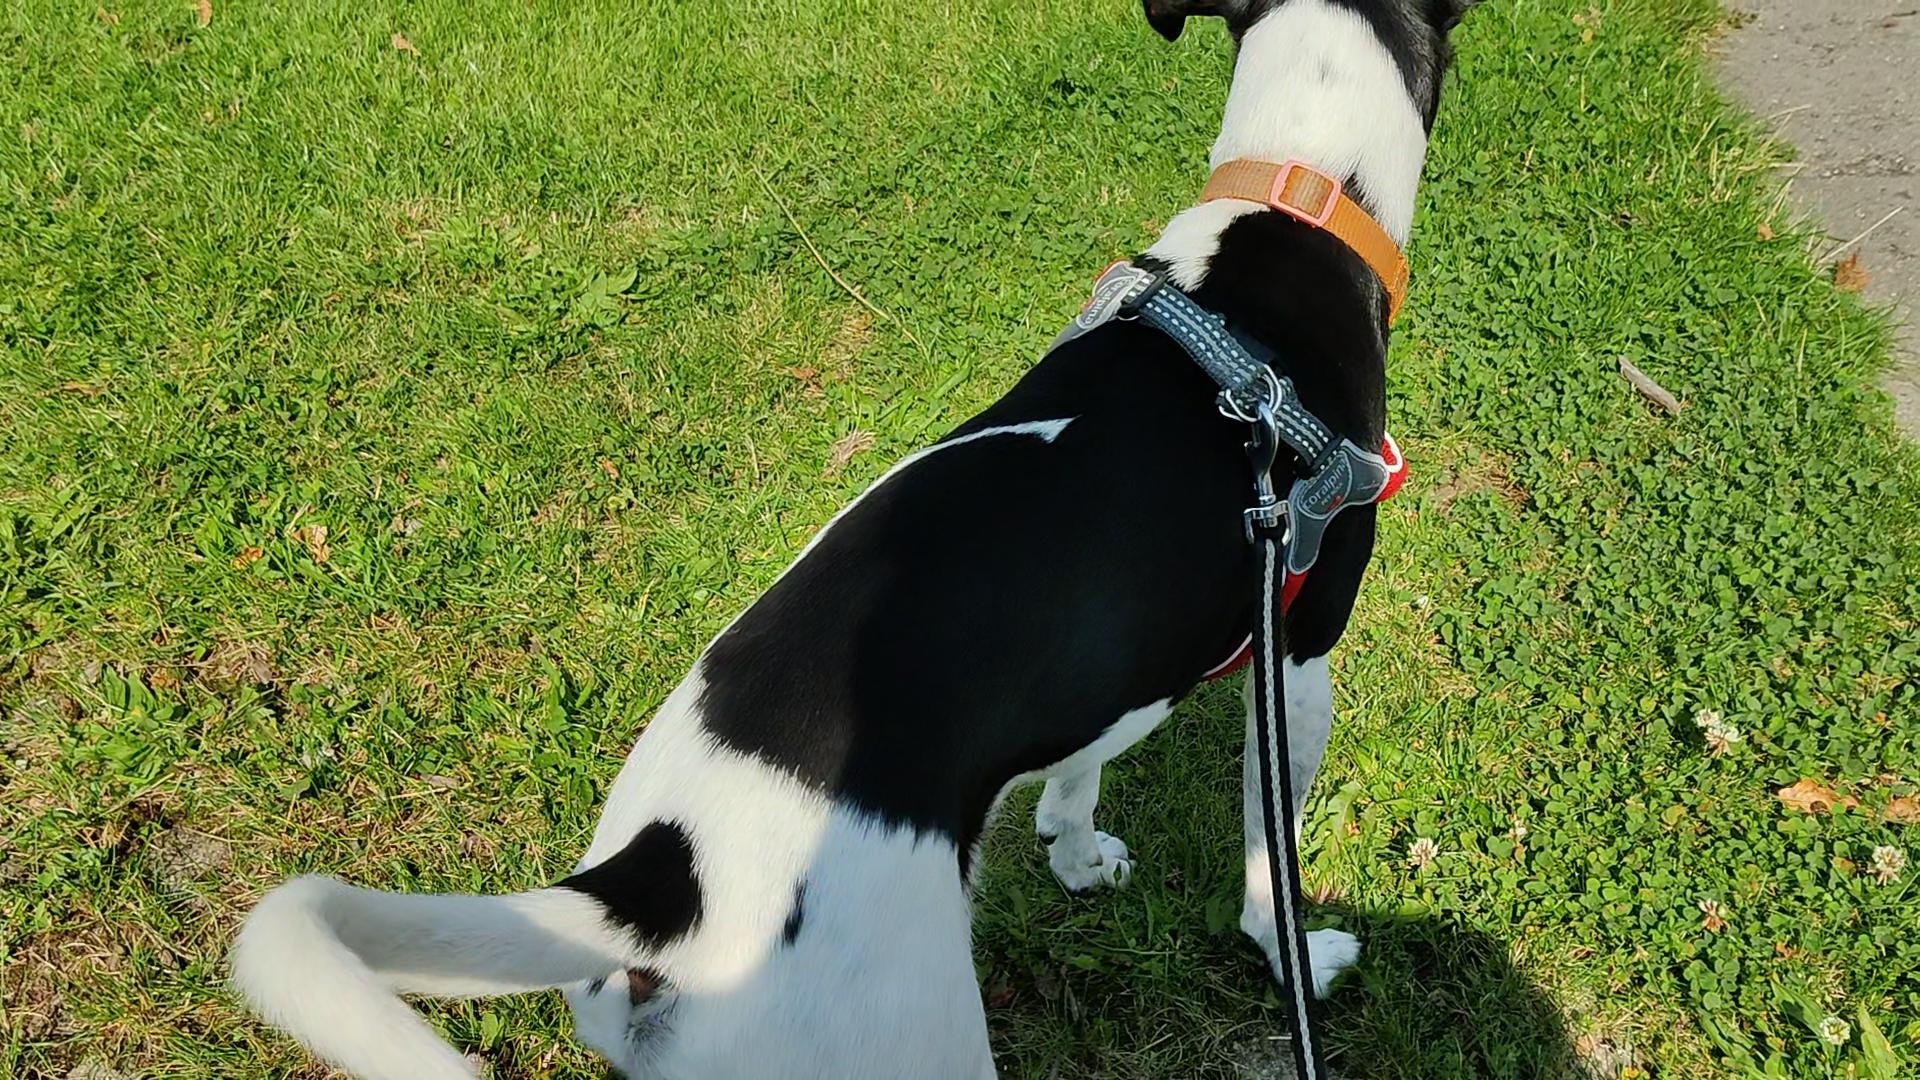Dog: (208, 0, 1486, 1079)
